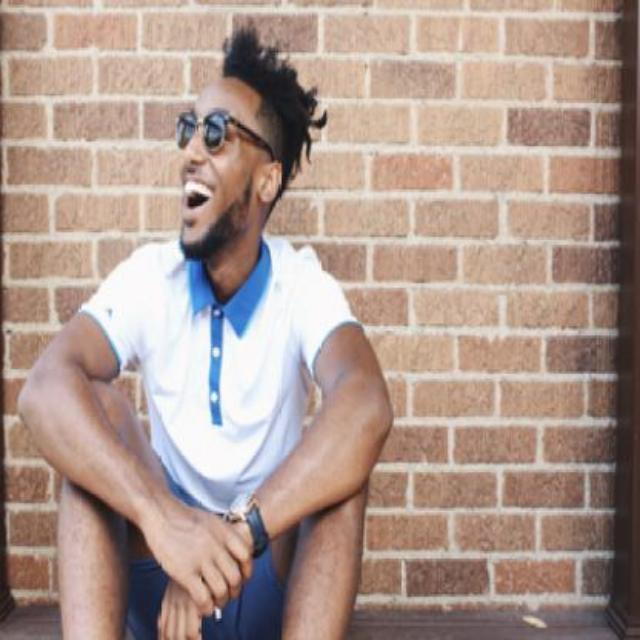glasses: (174, 108, 274, 162)
